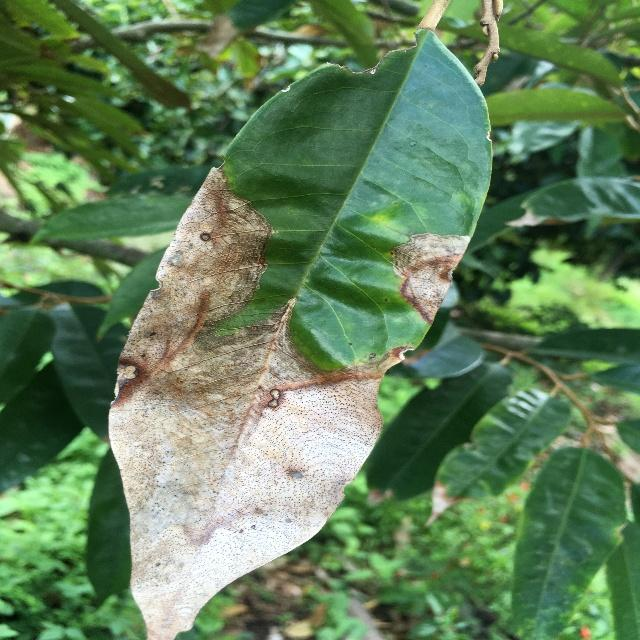Leaf Blight: (98, 17, 507, 640)
